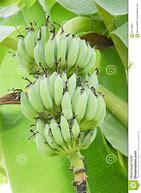banana: (15, 74, 105, 159), (9, 23, 107, 80)
